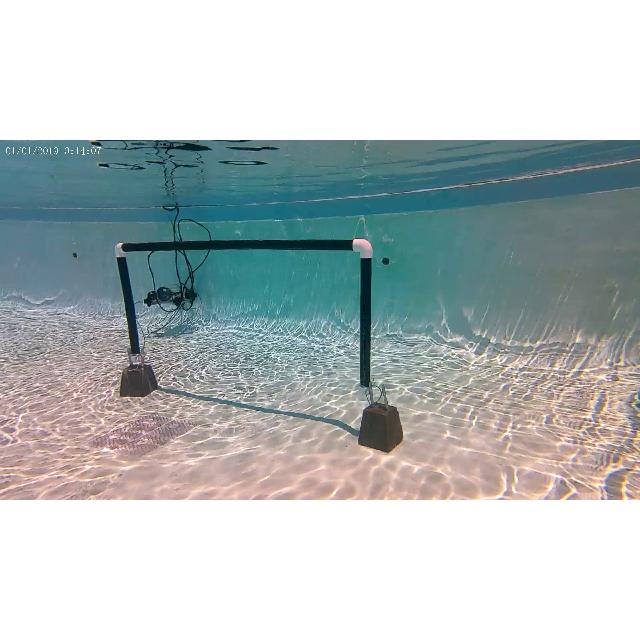prequal gate: (116, 242, 372, 392)
prequal gate leg l: (112, 242, 160, 396)
prequal gate leg r: (348, 238, 382, 392)
